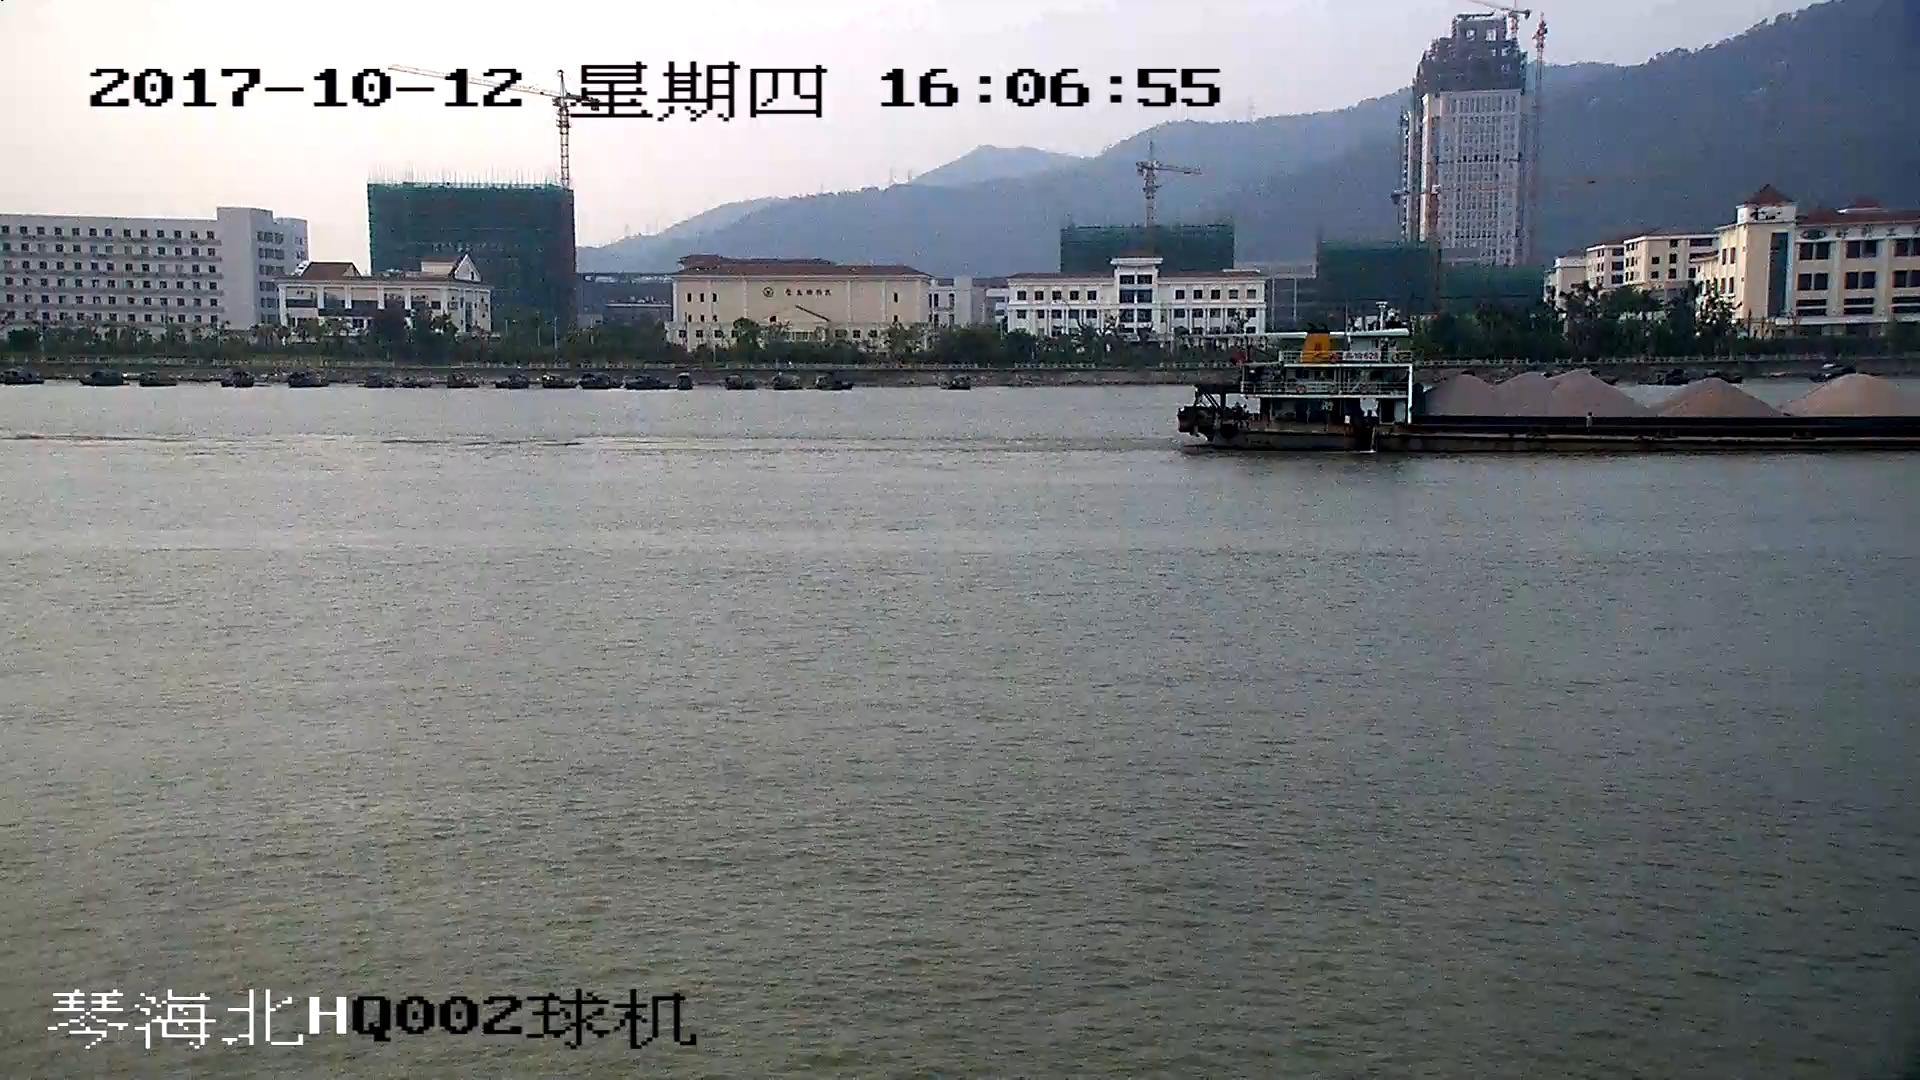ore carrier: (1193, 334, 1920, 458)
